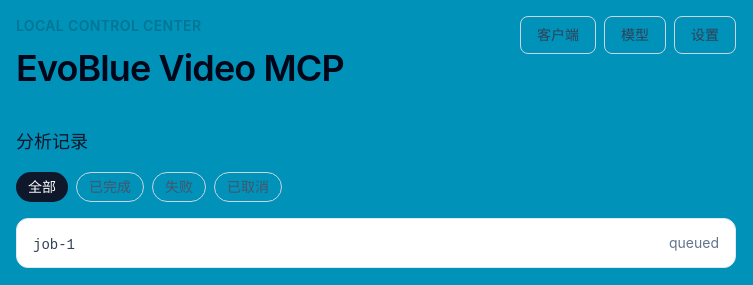
Scenario: App › filter chips query the server for failed and cancelled history
Expected: the text "job-1" is shown, x1=33 y1=237 x2=75 y2=253
Click the button "失败". click: click(179, 187)
box: x1=152 y1=172 x2=206 y2=202
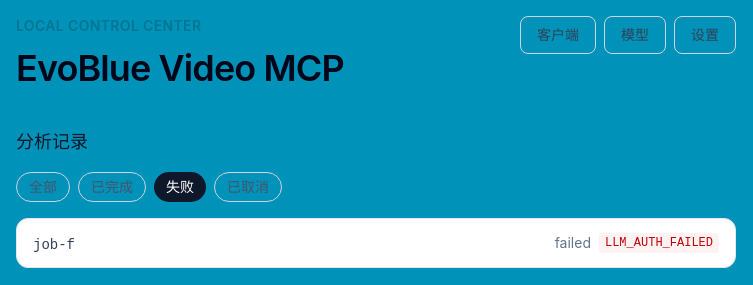
Now the text "job-f" is shown, box x1=33 y1=237 x2=75 y2=253
Now the text "LLM_AUTH_FAILED" is shown, box x1=599 y1=233 x2=719 y2=253
Click the button "已取消". click: click(248, 187)
box: x1=214 y1=172 x2=282 y2=202
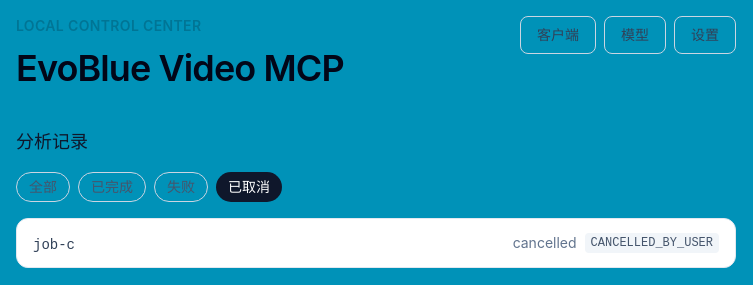
Now the text "job-c" is shown, box x1=33 y1=237 x2=75 y2=253
Now the text "CANCELLED_BY_USER" is shown, box x1=585 y1=233 x2=719 y2=253
